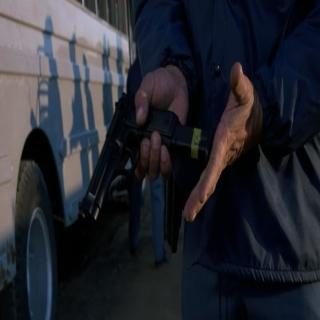gun: (78, 84, 202, 254)
